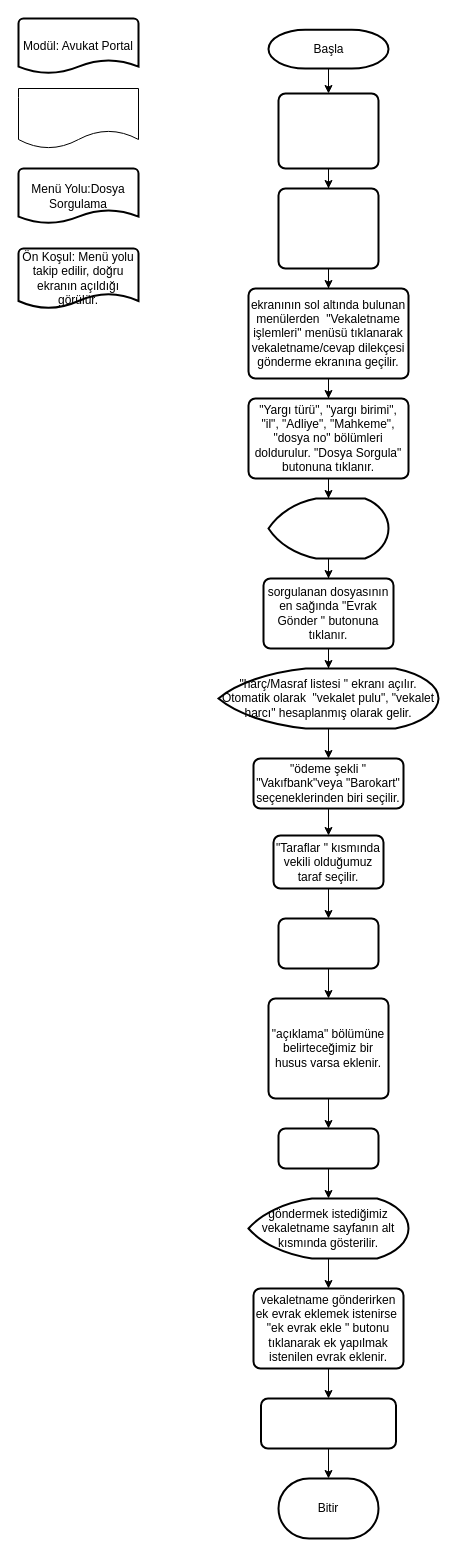
The diagram is 456 pixels wide and 1556 high, and some of its shapes have lost their labels. Here are the shapes that lost their labels. From the top down, the centre of each, then its label:
pixel 78 118: Birim/Rol: Avukat
pixel 328 130: "avukat.uyap.gov.tr" adresinden Avukat Portal sayfasına giriş yapılır.
pixel 328 228: Kullanıcı adı girilerek Avukat Portal ekranına girilir.
pixel 328 528: sorgulamak istediğimiz dosya ekranın altında görüntülenir.
pixel 328 943: "evrak türü"" vekaletname" olarak seçilir.
pixel 328 1148: "Ekle"butonuna basılır.
pixel 328 1423: "evrak gönder" butonuna tıklanarak vekaletname gönderilir.
